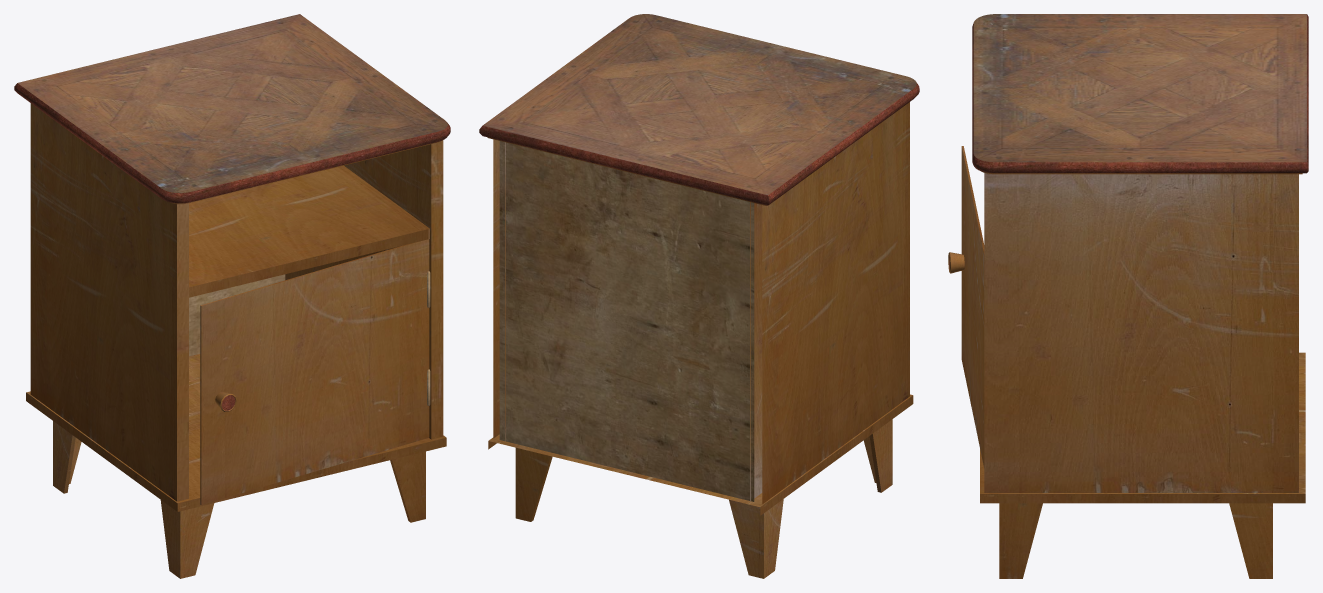
Rendered from nightstand.FBX.
3 views of the same model, side by side, from view 1: azimuth 30°, elevation 25°; view 2: azimuth 150°, elevation 25°; view 3: azimuth 270°, elevation 25° (orthographic). The views are drawn at different scales.
Visible parts, largest first — view 1: nightstand; view 2: nightstand; view 3: nightstand.
Boxes of the visible parts, x1,y1,x2,y2 form: nightstand: (14,14,450,578); nightstand: (479,14,919,578); nightstand: (948,14,1308,578).
Size of the model in its own units: 63.27 by 83.46 by 64.03.
